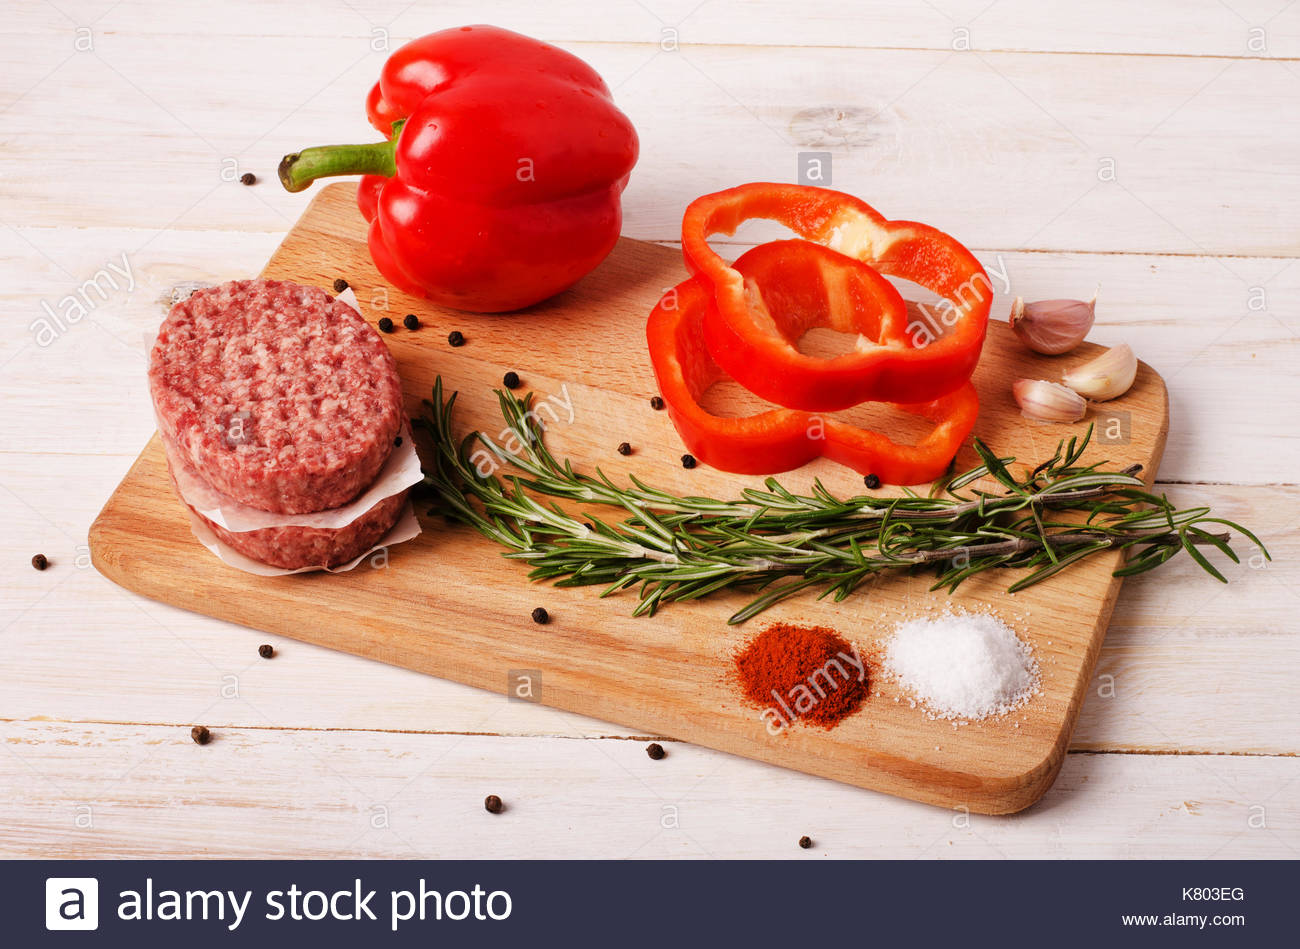ground_beef: (143, 278, 425, 585)
